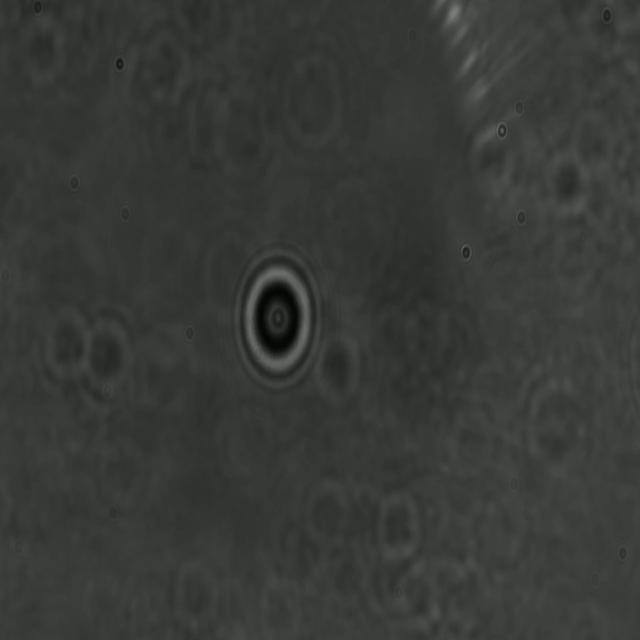LCELL: (233, 250, 323, 395)
